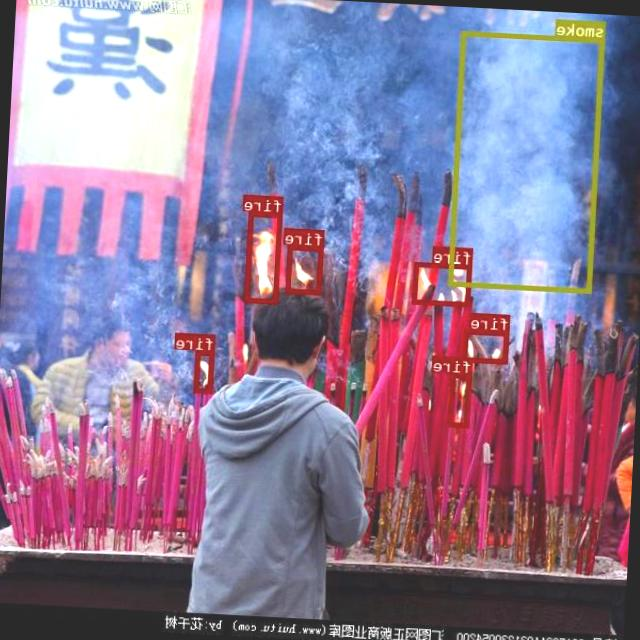fire: (246, 212, 284, 304), (413, 262, 473, 306), (287, 244, 324, 294), (464, 329, 511, 364), (450, 373, 472, 427), (195, 350, 215, 392)
smoke: (450, 30, 606, 292)
